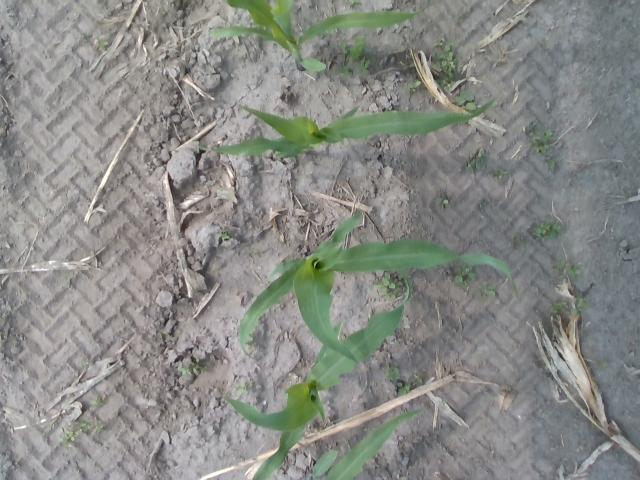Maize: (236, 209, 518, 367), (220, 278, 410, 480), (194, 98, 496, 154), (210, 0, 434, 72), (308, 409, 421, 480)
Weeds: (59, 420, 83, 448), (374, 274, 402, 294), (439, 46, 456, 70), (456, 91, 478, 109), (345, 38, 364, 57), (454, 266, 474, 284), (470, 149, 486, 169), (84, 419, 103, 434), (435, 69, 452, 85), (562, 262, 581, 276), (354, 58, 372, 72), (548, 219, 560, 239), (482, 282, 497, 296), (396, 382, 411, 396), (236, 381, 250, 395), (555, 300, 570, 313), (534, 143, 550, 154), (436, 192, 448, 206), (513, 236, 527, 248), (388, 365, 400, 379), (95, 40, 110, 51), (337, 63, 348, 77), (536, 223, 550, 234), (411, 372, 423, 384), (547, 159, 556, 173), (494, 168, 506, 178), (90, 396, 100, 408), (189, 362, 199, 373), (60, 272, 71, 282), (408, 80, 420, 89), (530, 135, 542, 144), (158, 331, 169, 340), (554, 261, 562, 273), (578, 299, 586, 309), (220, 234, 230, 242), (248, 342, 258, 350), (458, 10, 466, 20), (80, 360, 90, 368), (248, 249, 258, 257), (544, 128, 552, 138), (480, 199, 488, 208), (350, 0, 360, 7), (178, 368, 186, 376), (435, 40, 443, 47), (0, 330, 3, 336)
